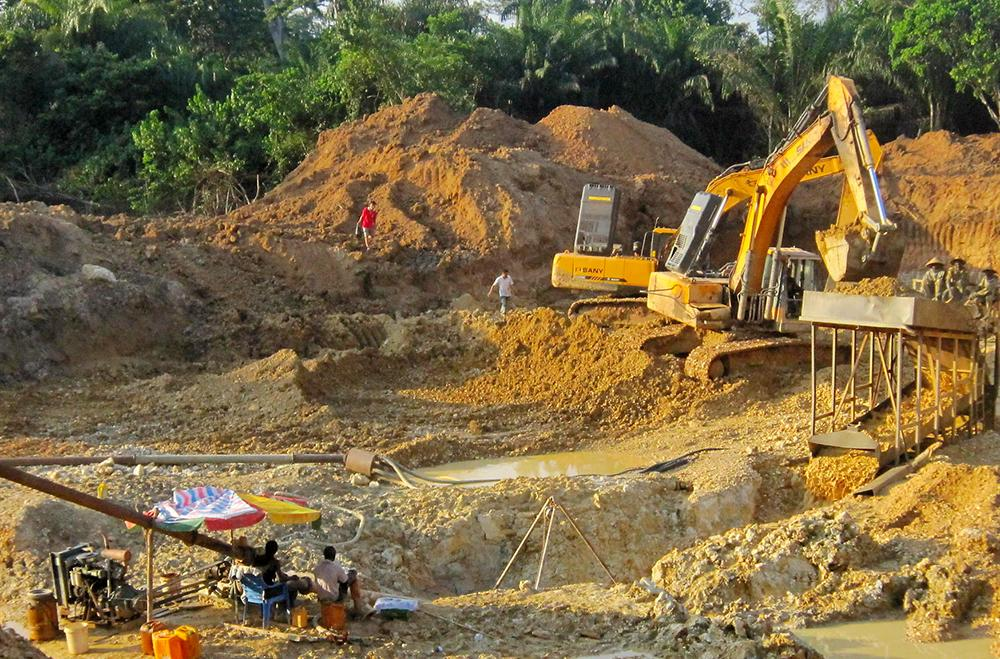ExcavationMachinery: (638, 70, 904, 386), (549, 127, 896, 325)
MiningTool: (24, 607, 56, 642), (175, 626, 201, 659), (137, 619, 161, 654), (63, 623, 90, 654), (152, 630, 178, 659), (26, 589, 51, 601)
Person: (242, 536, 294, 612), (313, 551, 359, 608), (486, 269, 516, 323), (968, 262, 999, 304), (354, 200, 379, 251), (922, 255, 948, 301), (949, 254, 969, 300), (783, 269, 801, 314)
ProcessingEquiment: (797, 288, 992, 492), (49, 532, 227, 624)
Structure: (136, 484, 323, 544)
